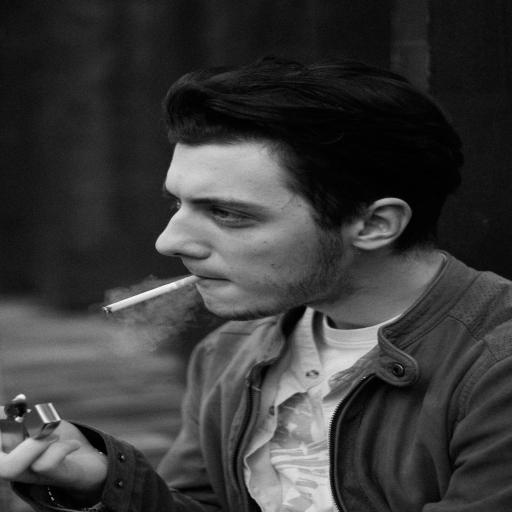terdeteksi merokok: (73, 166, 254, 333)
